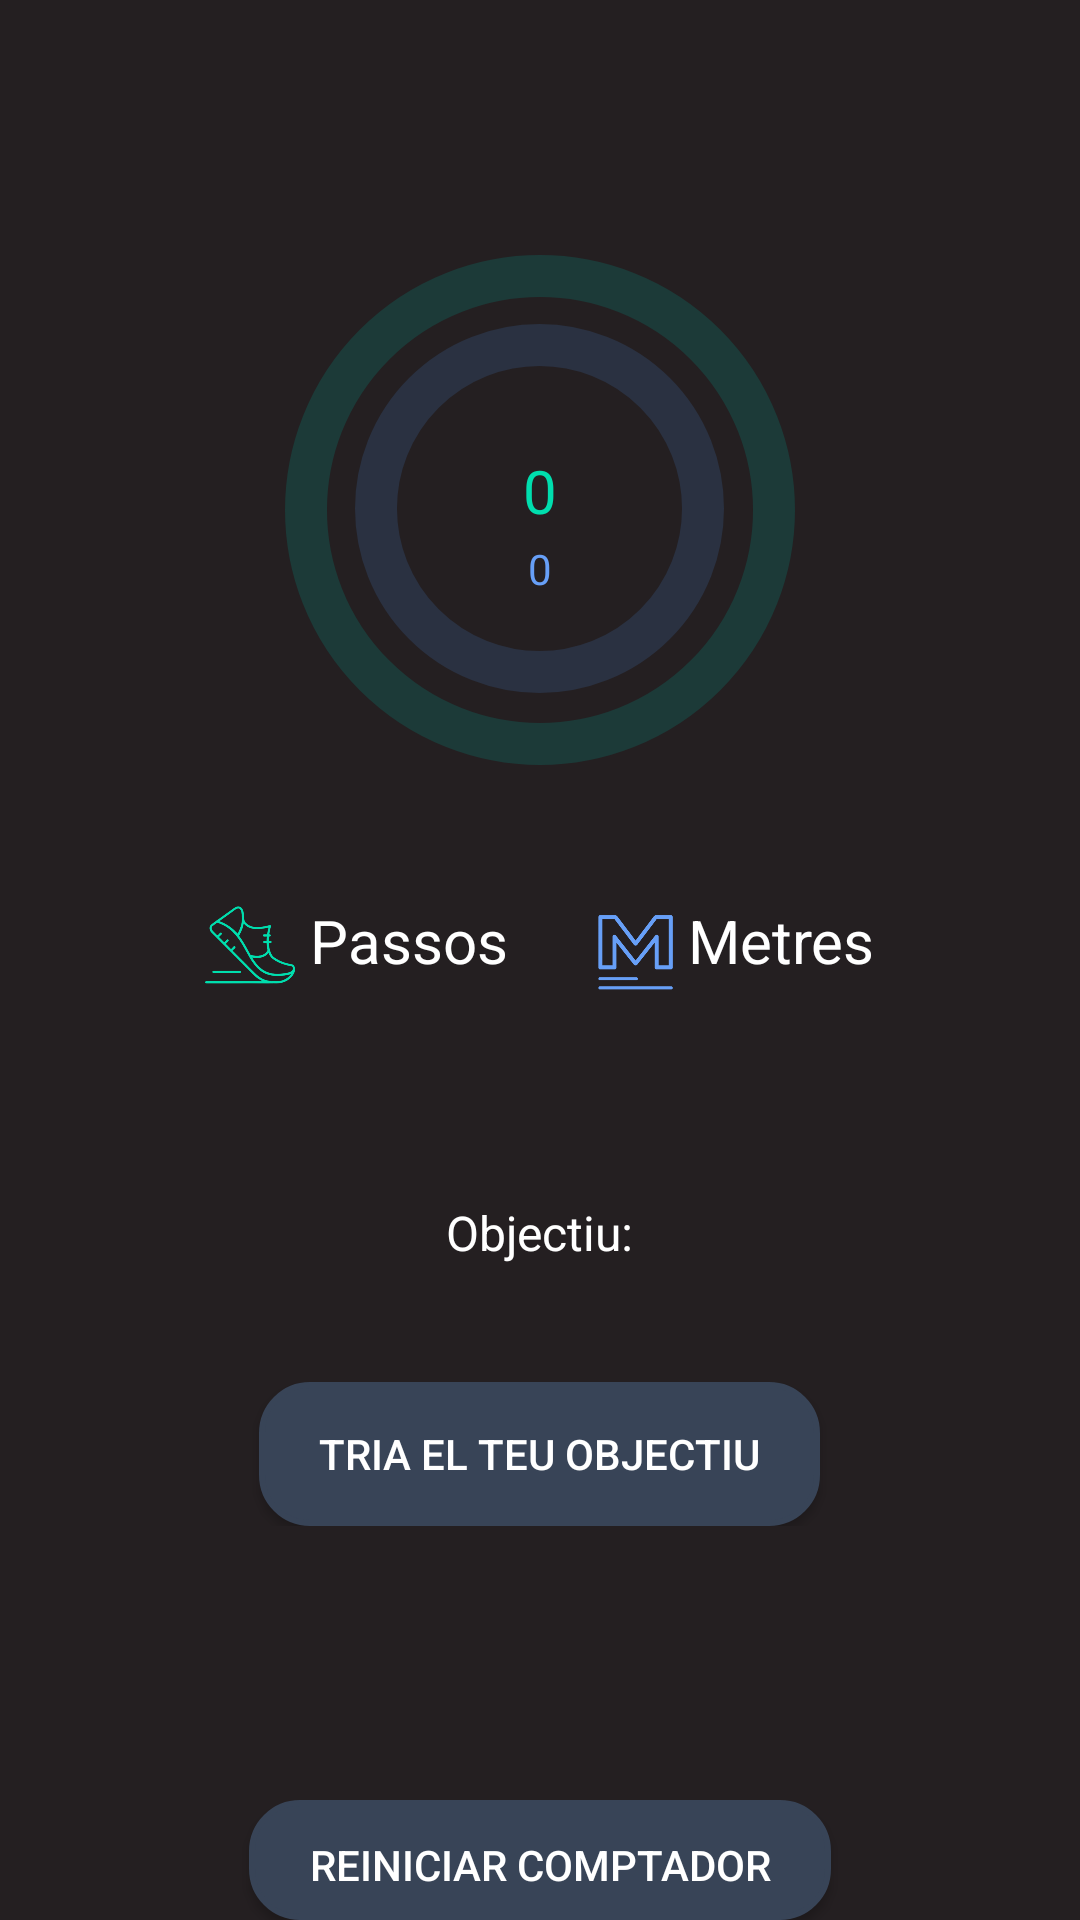

Named icons in this screenshot (1080w x 1920h) and their bounding boxes, (x1, y1, x2, y2):
pasos: (205, 906, 295, 984)
